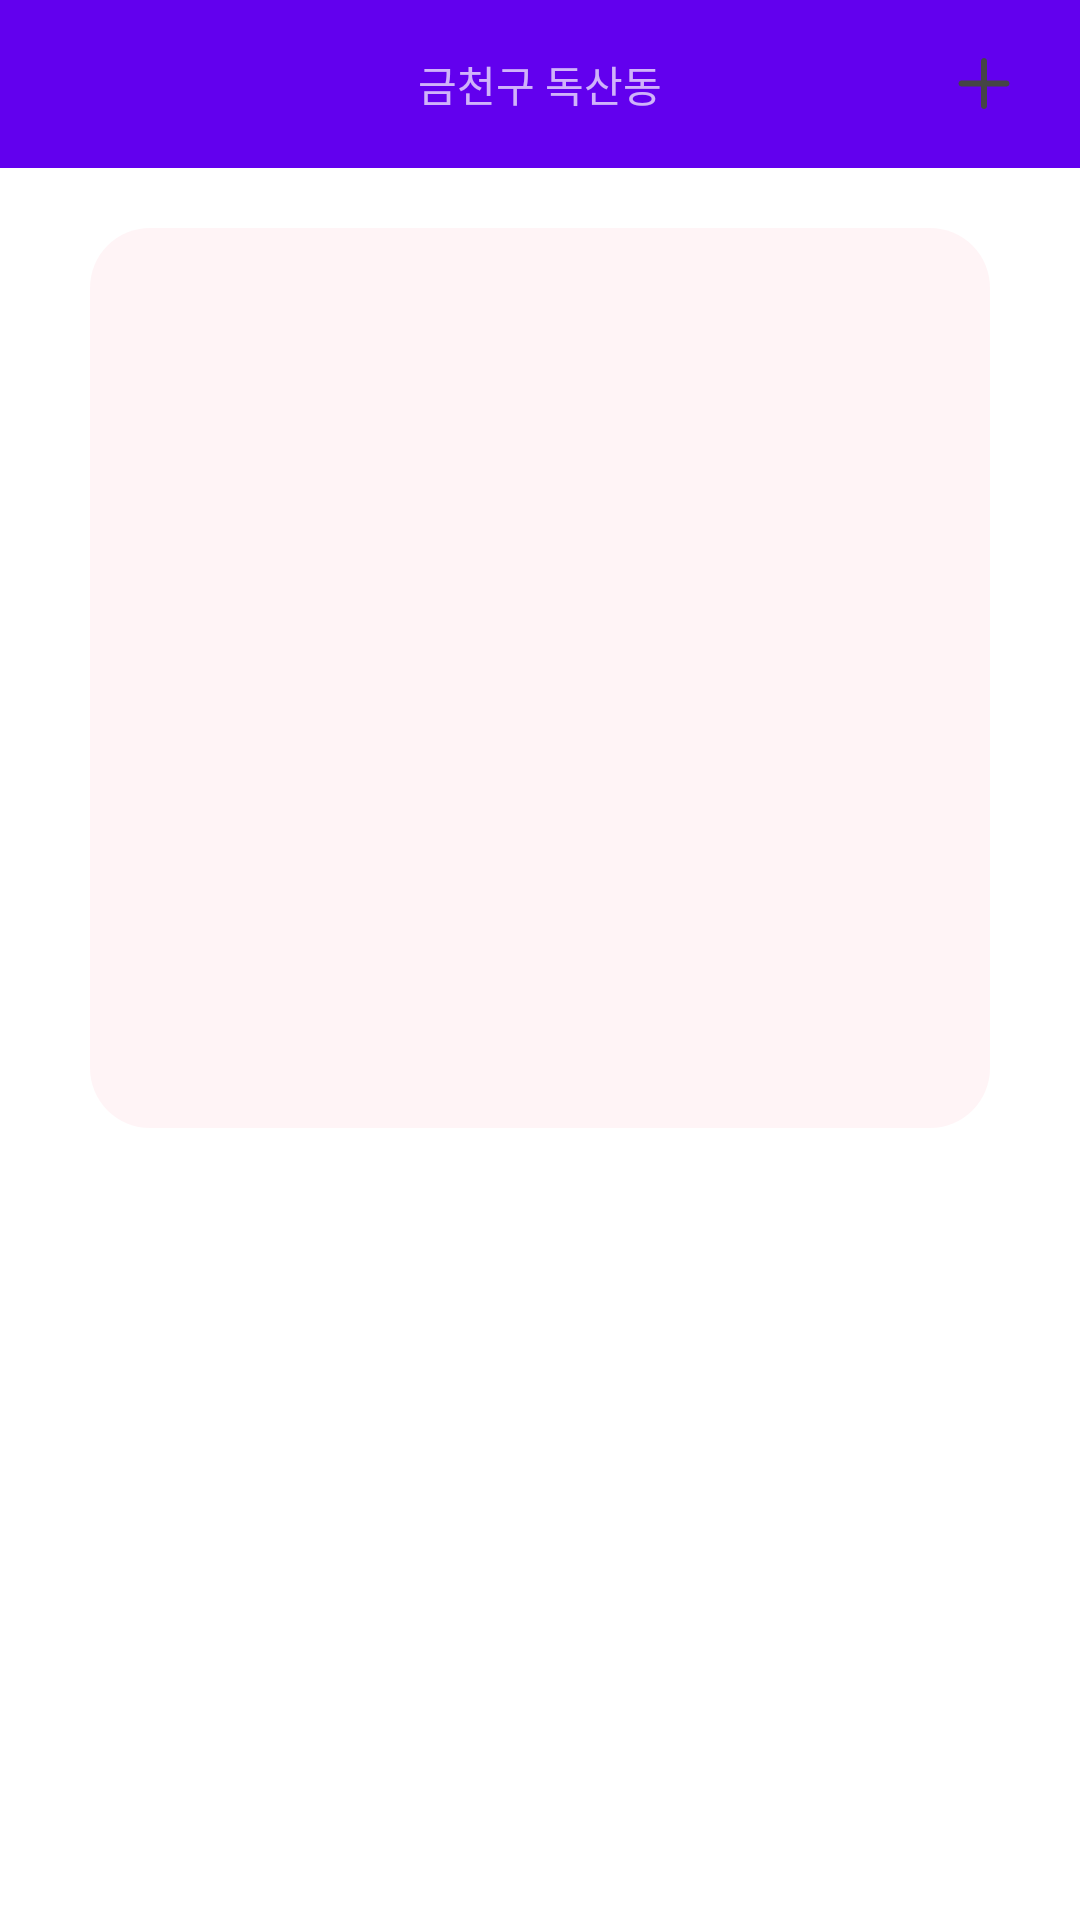

Where to tap for icons on this 1080*1920 app screen, as (x=x, y=y):
plus: (x=984, y=83)
